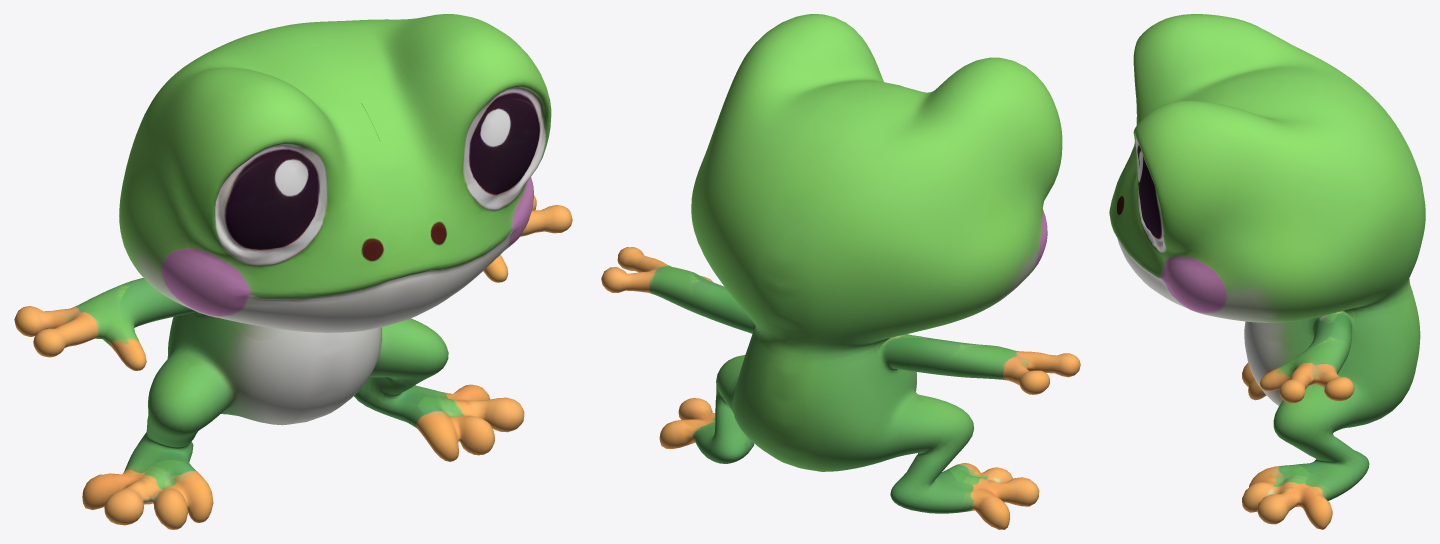
Rendered from frog.fbx.
The picture shows the model from 3 angles, left to right: view 1: azimuth 30°, elevation 25°; view 2: azimuth 150°, elevation 25°; view 3: azimuth 270°, elevation 25°; orthographic projection. The views are drawn at different scales.
Visible parts, largest first — view 1: model; view 2: model; view 3: model.
Boxes of the visible parts, <box> form: model: <box>14,14,572,529</box>; model: <box>601,14,1080,529</box>; model: <box>1109,14,1425,529</box>.
Size of the model in its own units: 190 by 158 by 116.
